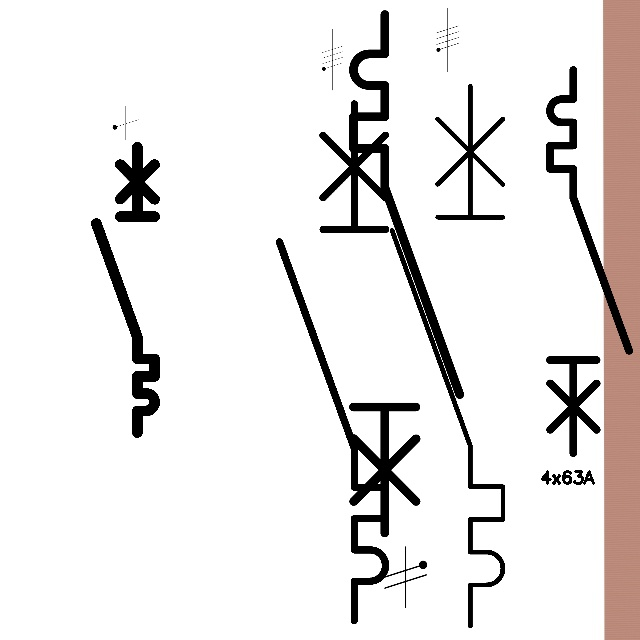interruptor_termomagnetico: (378, 72, 517, 640), (340, 1, 473, 546), (266, 90, 399, 633), (540, 60, 638, 463), (89, 139, 162, 439)
